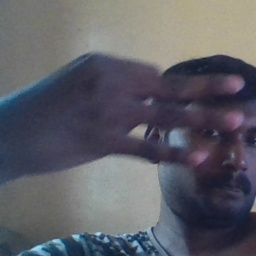K: (8, 51, 246, 174)
